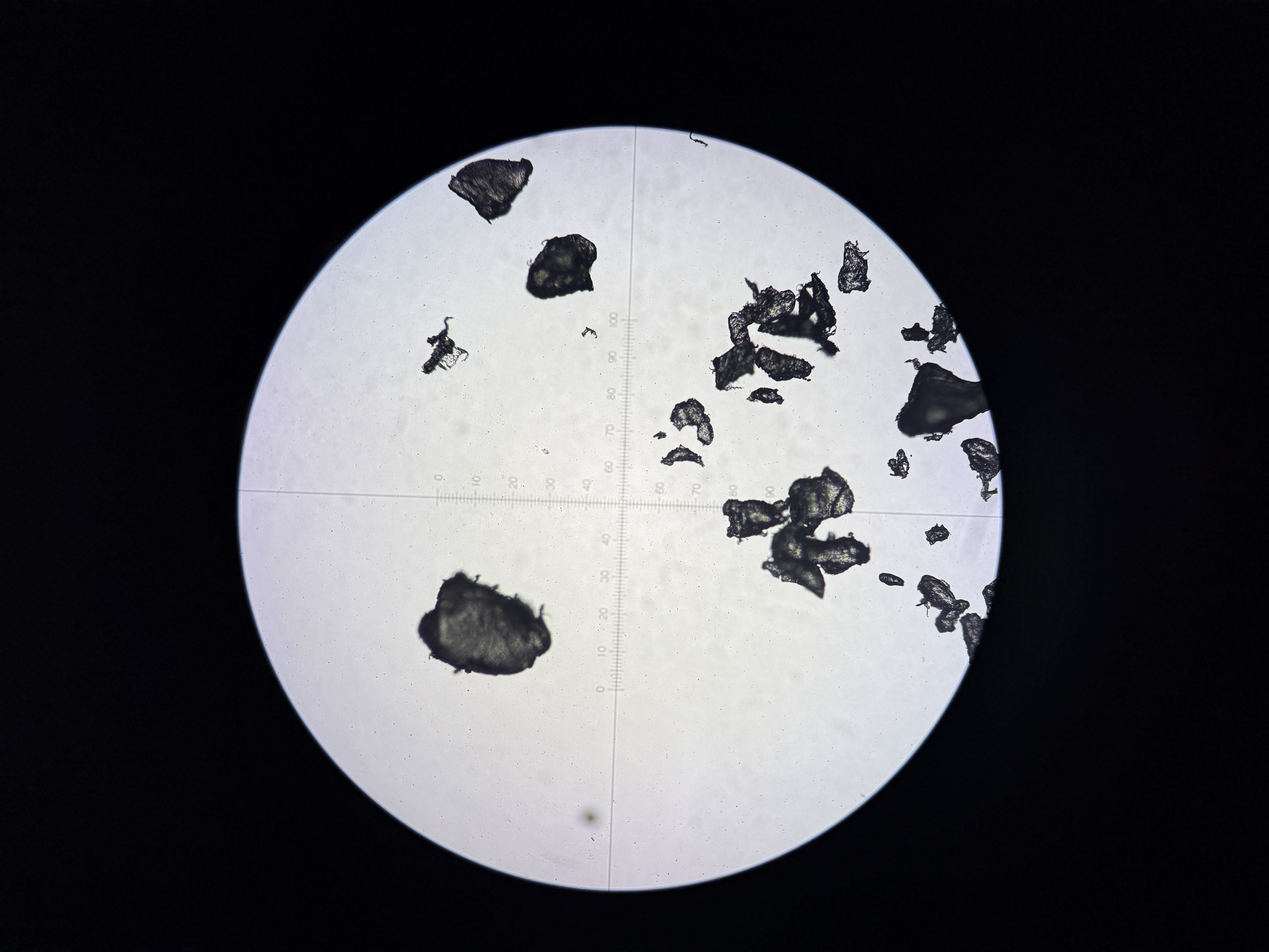microplastic: (418, 572, 552, 676), (772, 466, 870, 599), (894, 362, 991, 436), (448, 158, 533, 225), (728, 277, 796, 350), (526, 233, 597, 300), (758, 315, 840, 356), (722, 497, 790, 545), (796, 270, 837, 341), (421, 316, 469, 374), (960, 438, 1001, 502), (708, 342, 759, 391), (755, 346, 815, 382), (670, 398, 714, 447), (762, 559, 825, 590), (838, 239, 872, 294), (916, 575, 956, 617), (959, 613, 988, 664), (935, 599, 970, 633), (660, 444, 705, 468), (927, 325, 961, 354), (930, 302, 953, 339), (887, 449, 910, 479), (746, 388, 784, 405), (982, 578, 998, 617), (925, 523, 952, 545), (901, 323, 930, 342), (879, 573, 904, 586), (689, 132, 708, 147), (904, 358, 921, 370), (581, 327, 597, 339), (924, 434, 943, 442), (652, 431, 667, 440), (910, 455, 912, 457)
